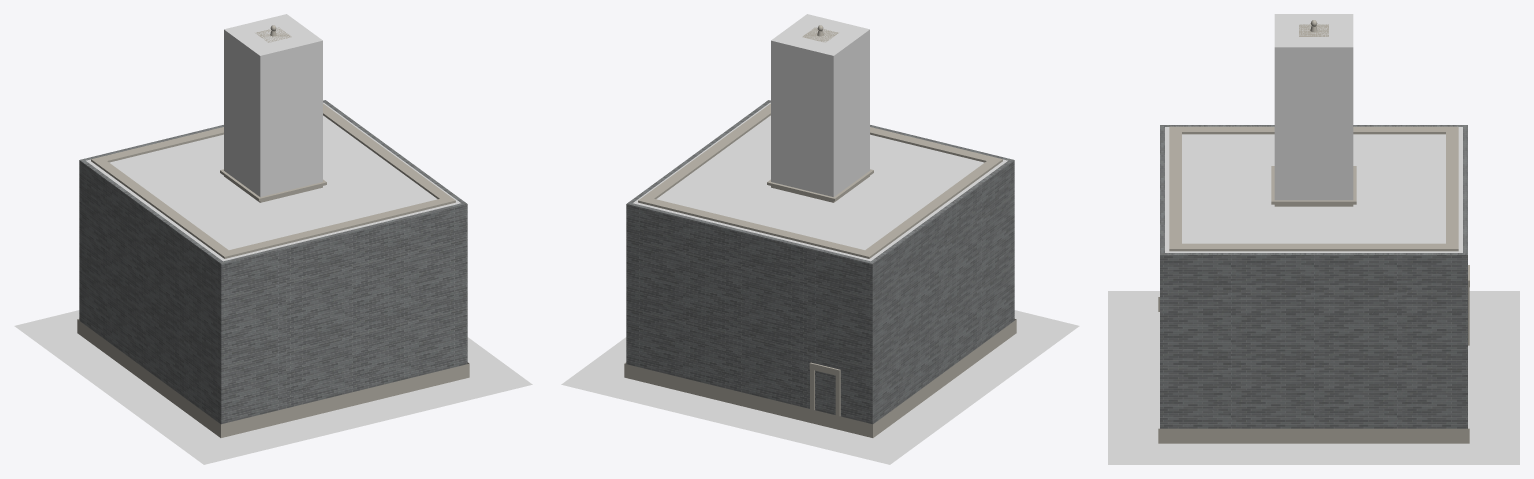
The model's file is yandun.glb.
3 renders of one model, left to right at view 1: azimuth 30°, elevation 25°; view 2: azimuth 150°, elevation 25°; view 3: azimuth 270°, elevation 25°, orthographic. The views are drawn at different scales.
Parts seen in each view (by area): view 1: Massing, COL_body, COL_stele, CLEAR_round, Yandun; view 2: Massing, COL_body, COL_stele, CLEAR_round, Yandun; view 3: Massing, COL_body, CLEAR_round, COL_stele, Yandun, FOOTPRINT_yandun.
Part boxes in pixels (x1=…): Massing: x1=79, y1=27, x2=467, y2=424; COL_body: x1=86, y1=102, x2=460, y2=261; COL_stele: x1=224, y1=14, x2=322, y2=197; CLEAR_round: x1=14, y1=310, x2=532, y2=464; Yandun: x1=77, y1=25, x2=469, y2=437; Massing: x1=626, y1=27, x2=1014, y2=424; COL_body: x1=633, y1=102, x2=1007, y2=261; COL_stele: x1=771, y1=14, x2=869, y2=197; CLEAR_round: x1=561, y1=310, x2=1079, y2=464; Yandun: x1=624, y1=25, x2=1016, y2=437; Massing: x1=1160, y1=24, x2=1467, y2=428; COL_body: x1=1165, y1=127, x2=1462, y2=252; CLEAR_round: x1=1108, y1=291, x2=1519, y2=464; COL_stele: x1=1274, y1=14, x2=1353, y2=200; Yandun: x1=1158, y1=20, x2=1469, y2=443; FOOTPRINT_yandun: x1=1151, y1=309, x2=1476, y2=422.
Size of the model in its own units: 19.86 by 19.04 by 19.86.
Materials: 4 (1 with a texture image).
